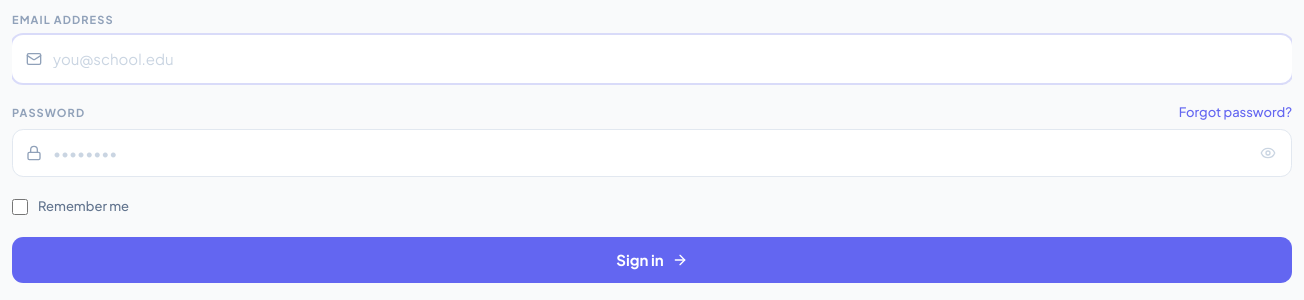
SignInForm › shows a loading state while signing in
The width and height of the screenshot is (1304, 300).
Step 1. Type "admin@school.edu" into the field labelled "Email address" → (652, 59), box [12,34,1292,83]
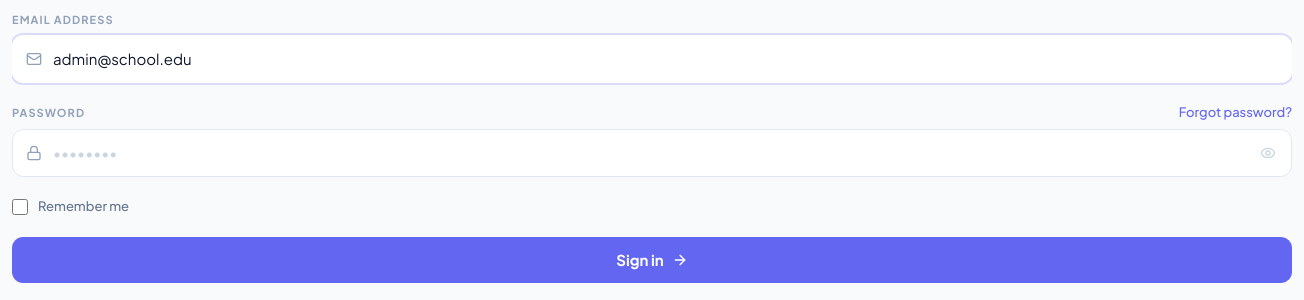
Step 2. Type "Secret123!" into the password field labelled "Password" → (652, 153), box [12,128,1292,177]
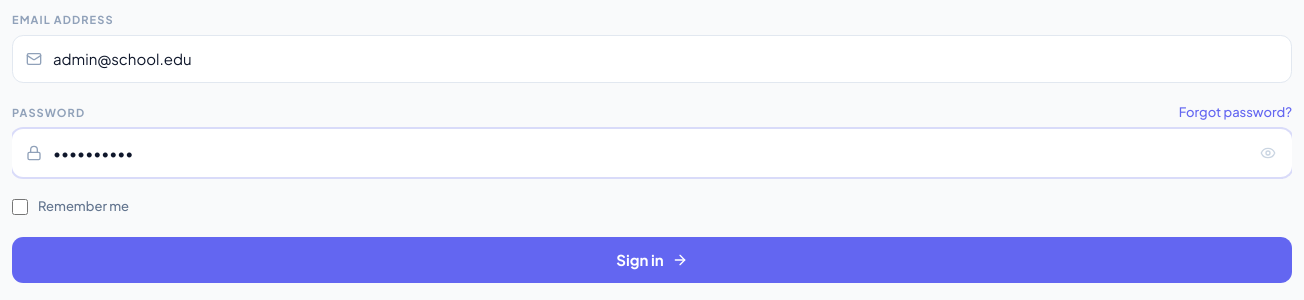
Step 3. Click the button "Sign in" → (652, 260), box [12,236,1292,283]
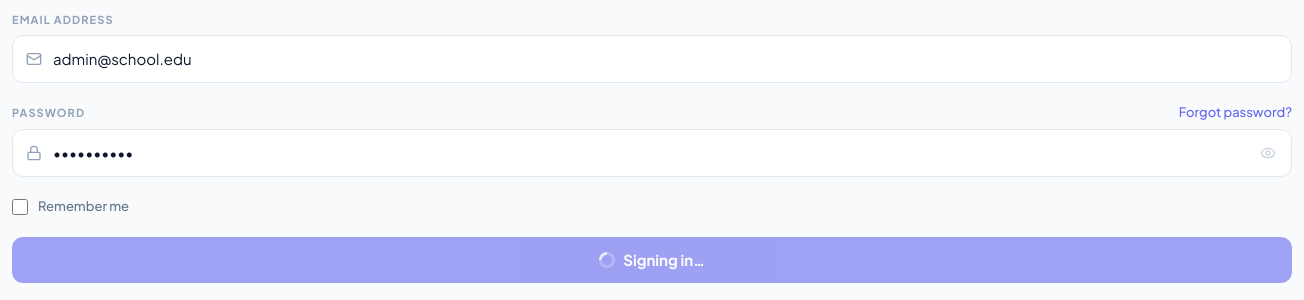
Now the button "Signing in…" is disabled, box [12,236,1292,283]
